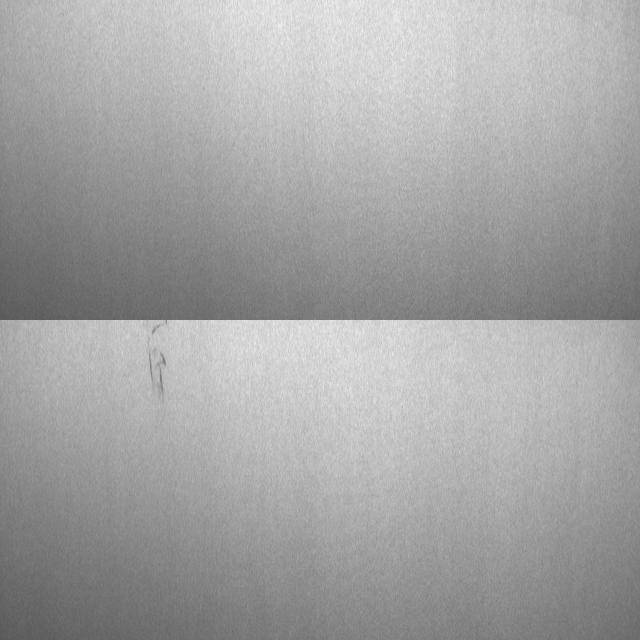Stain: (147, 316, 170, 412)
